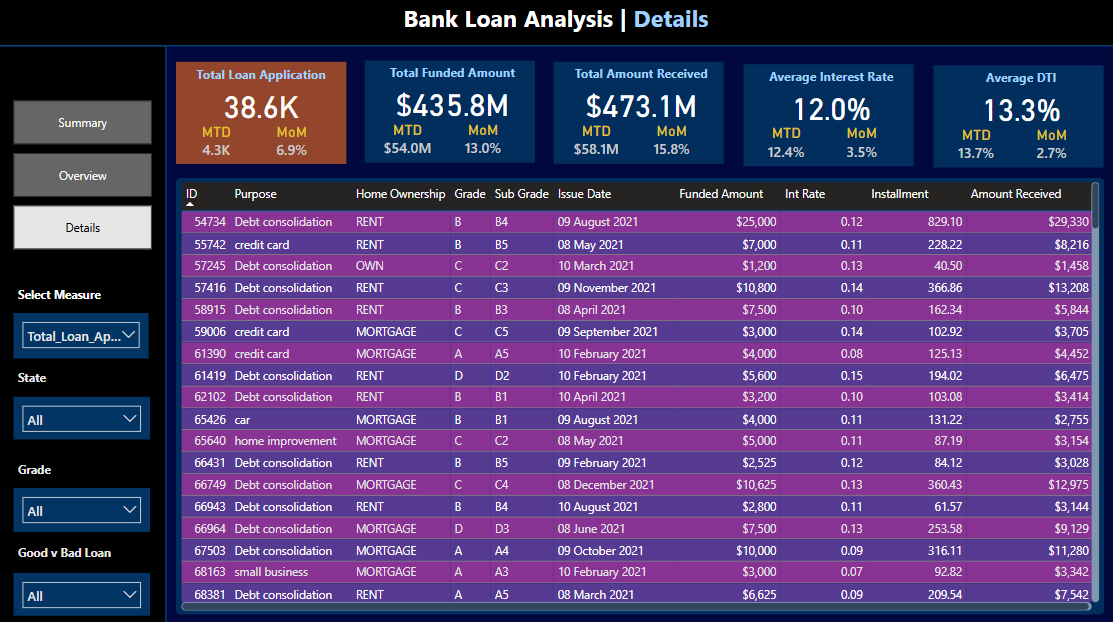

The dashboard page shown, as its layout file describes it:
{"tool":"powerbi","page":{"name":"Details","canvas":[1280,720],"ordinal":2},"visuals":[{"type":"shape","box":[206.3,206.3,1060.5,499.5],"z":0},{"type":"shape","box":[0,0,1280,55.5],"z":1000},{"type":"shape","box":[2.9,54.8,191.9,665.1],"z":2000},{"type":"textbox","box":[0,0,1280,55.5],"z":3000},{"type":"shape","box":[206.3,72.6,195,117],"z":3000,"group":"g5"},{"type":"shape","box":[420.7,72.7,194.8,116.9],"z":3000,"group":"g2"},{"type":"shape","box":[637.8,74.1,194.8,116.9],"z":3000,"group":"g3"},{"type":"shape","box":[854.9,75.6,194.8,116.9],"z":3000,"group":"g4"},{"type":"shape","box":[1072,77,194.8,116.9],"z":3000,"group":"g6"},{"type":"group","id":"g1","title":"Group 1","box":[206.3,72.6,195,117],"z":4000},{"type":"card","fields":{"Values":["Bank_loan_data.Total Funded Amount"]},"box":[423.3,99.5,194.8,41.8],"z":4000,"group":"g2"},{"type":"card","fields":{"Values":["Bank_loan_data.Total Amount Received"]},"box":[640.4,100.9,194.8,41.8],"z":4000,"group":"g3"},{"type":"card","fields":{"Values":["Bank_loan_data.Total_Loan_Application"]},"box":[206.3,101.4,194.8,41.8],"z":4000,"group":"g5"},{"type":"card","fields":{"Values":["Bank_loan_data.Average Interest Rate"]},"box":[857.5,102.4,194.8,41.8],"z":4000,"group":"g4"},{"type":"card","fields":{"Values":["Bank_loan_data.Average DTI"]},"box":[1074.6,103.8,194.8,41.8],"z":4000,"group":"g6"},{"type":"group","id":"g2","title":"Group 2","box":[420.7,70.7,197.7,118.3],"z":5000},{"type":"textbox","box":[423.3,70.7,194.8,46.2],"z":5000,"group":"g2"},{"type":"textbox","box":[640.4,72.1,194.8,46.2],"z":5000,"group":"g3"},{"type":"textbox","box":[206.3,72.6,194.8,46.2],"z":5000,"group":"g5"},{"type":"textbox","box":[857.5,73.6,194.8,46.2],"z":5000,"group":"g4"},{"type":"textbox","box":[1074.6,75,194.8,46.2],"z":5000,"group":"g6"},{"type":"group","id":"g3","title":"Group 2","box":[637.8,72.1,197.7,118.3],"z":6000},{"type":"card","title":"MTD","fields":{"Values":["Bank_loan_data.MTD Funded Amount"]},"box":[436.3,141.1,66.4,45.8],"z":6000,"group":"g2"},{"type":"card","title":"MTD","fields":{"Values":["Bank_loan_data.MTD Total Amount Received"]},"box":[653.4,142.5,66.4,45.8],"z":6000,"group":"g3"},{"type":"card","title":"MTD","fields":{"Values":["Bank_loan_data.MTD Loan Application"]},"box":[219.3,143,66.4,45.8],"z":6000,"group":"g5"},{"type":"card","title":"MTD","fields":{"Values":["Bank_loan_data.MTD Average Interest Rate"]},"box":[870.5,144,66.4,45.8],"z":6000,"group":"g4"},{"type":"card","title":"MTD","fields":{"Values":["Bank_loan_data.MTD Average DTI"]},"box":[1087.6,145.4,66.4,45.8],"z":6000,"group":"g6"},{"type":"group","id":"g4","title":"Group 2","box":[854.9,73.6,197.7,118.3],"z":7000},{"type":"card","title":"MoM","fields":{"Values":["Bank_loan_data.MoM Total Funded Amount"]},"box":[522,141.1,67.6,45.8],"z":7000,"group":"g2"},{"type":"card","title":"MoM","fields":{"Values":["Bank_loan_data.MoM Total Amount Received"]},"box":[739.1,142.5,67.6,45.8],"z":7000,"group":"g3"},{"type":"card","title":"MoM","fields":{"Values":["Bank_loan_data.MoM"]},"box":[305,143,67.6,45.8],"z":7000,"group":"g5"},{"type":"card","title":"MoM","fields":{"Values":["Bank_loan_data.MoM Average Interest Rate"]},"box":[956.2,144,67.6,45.8],"z":7000,"group":"g4"},{"type":"card","title":"MoM","fields":{"Values":["Bank_loan_data.MoM Average DTI"]},"box":[1173.3,145.4,67.6,45.8],"z":7000,"group":"g6"},{"type":"group","id":"g5","title":"Group 2","box":[206.3,72.6,195,117],"z":7002,"group":"g1"},{"type":"group","id":"g6","title":"Group 2","box":[1072,75,197.7,118.3],"z":8000},{"type":"slicer","fields":{"Values":["Bank_loan_data.address_state"]},"box":[20.2,455.9,155.8,49.1],"z":9000},{"type":"textbox","box":[20.2,419.8,54.8,36.1],"z":10000},{"type":"slicer","fields":{"Values":["Bank_loan_data.grade"]},"box":[20.2,559.8,155.8,50.5],"z":11000},{"type":"textbox","box":[20.2,523.7,69.3,36.1],"z":12000},{"type":"slicer","fields":{"Values":["Bank_loan_data.Good v Bad Loan"]},"box":[20.2,656.5,155.8,49.1],"z":13000},{"type":"textbox","box":[20.2,620.4,147.2,36.1],"z":14000},{"type":"slicer","fields":{"Values":["Select Measure.Select Measure"]},"box":[20.2,360.7,154.4,51.9],"z":16000},{"type":"textbox","box":[20.2,324.6,145.7,36.1],"z":17000},{"type":"tableEx","fields":{"Values":["Bank_loan_data.id","Bank_loan_data.purpose","Bank_loan_data.home_ownership","Bank_loan_data.grade","Bank_loan_data.sub_grade","Bank_loan_data.issue_date","Bank_loan_data.Total Funded Amount","Sum(Bank_loan_data.int_rate)","Sum(Bank_loan_data.installment)","Bank_loan_data.Total Amount Received"]},"box":[206.3,206.3,1060.4,499.2],"z":17001},{"type":"pageNavigator","box":[20.2,116.9,158.7,171.7],"z":17002}]}

Visuals, with their boxes in screenshot pixels (x1, y1, x2, y2), scaled from the page's 1280x720 canvas onto the 1113x622 screenshot:
shape: [x1=179, y1=178, x2=1102, y2=610]
shape: [x1=0, y1=0, x2=1112, y2=48]
shape: [x1=3, y1=47, x2=169, y2=621]
textbox: [x1=0, y1=0, x2=1112, y2=48]
shape: [x1=179, y1=63, x2=349, y2=164]
shape: [x1=366, y1=63, x2=535, y2=164]
shape: [x1=555, y1=64, x2=724, y2=165]
shape: [x1=743, y1=65, x2=913, y2=166]
shape: [x1=932, y1=67, x2=1102, y2=168]
"Group 1" group: [x1=179, y1=63, x2=349, y2=164]
card - Bank_loan_data.Total Funded Amount: [x1=368, y1=86, x2=537, y2=122]
card - Bank_loan_data.Total Amount Received: [x1=557, y1=87, x2=726, y2=123]
card - Bank_loan_data.Total_Loan_Application: [x1=179, y1=88, x2=349, y2=124]
card - Bank_loan_data.Average Interest Rate: [x1=746, y1=88, x2=915, y2=125]
card - Bank_loan_data.Average DTI: [x1=934, y1=90, x2=1104, y2=126]
"Group 2" group: [x1=366, y1=61, x2=538, y2=163]
textbox: [x1=368, y1=61, x2=537, y2=101]
textbox: [x1=557, y1=62, x2=726, y2=102]
textbox: [x1=179, y1=63, x2=349, y2=103]
textbox: [x1=746, y1=64, x2=915, y2=103]
textbox: [x1=934, y1=65, x2=1104, y2=105]
"Group 2" group: [x1=555, y1=62, x2=726, y2=164]
"MTD" card: [x1=379, y1=122, x2=437, y2=161]
"MTD" card: [x1=568, y1=123, x2=626, y2=163]
"MTD" card: [x1=191, y1=124, x2=248, y2=163]
"MTD" card: [x1=757, y1=124, x2=815, y2=164]
"MTD" card: [x1=946, y1=126, x2=1003, y2=165]
"Group 2" group: [x1=743, y1=64, x2=915, y2=166]
"MoM" card: [x1=454, y1=122, x2=513, y2=161]
"MoM" card: [x1=643, y1=123, x2=701, y2=163]
"MoM" card: [x1=265, y1=124, x2=324, y2=163]
"MoM" card: [x1=831, y1=124, x2=890, y2=164]
"MoM" card: [x1=1020, y1=126, x2=1079, y2=165]
"Group 2" group: [x1=179, y1=63, x2=349, y2=164]
"Group 2" group: [x1=932, y1=65, x2=1104, y2=167]
slicer - Bank_loan_data.address_state: [x1=18, y1=394, x2=153, y2=436]
textbox: [x1=18, y1=363, x2=65, y2=394]
slicer - Bank_loan_data.grade: [x1=18, y1=484, x2=153, y2=527]
textbox: [x1=18, y1=452, x2=78, y2=484]
slicer - Bank_loan_data.Good v Bad Loan: [x1=18, y1=567, x2=153, y2=610]
textbox: [x1=18, y1=536, x2=146, y2=567]
slicer - Select Measure.Select Measure: [x1=18, y1=312, x2=152, y2=356]
textbox: [x1=18, y1=280, x2=144, y2=312]
tableEx - Bank_loan_data.id x Bank_loan_data.purpose: [x1=179, y1=178, x2=1101, y2=609]
pageNavigator: [x1=18, y1=101, x2=156, y2=249]
